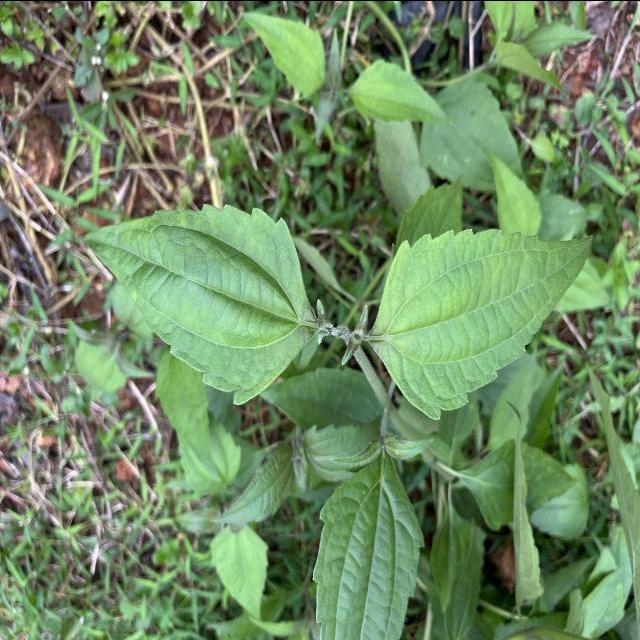Chromolaena odorata: (78, 197, 322, 409), (366, 224, 596, 424)
